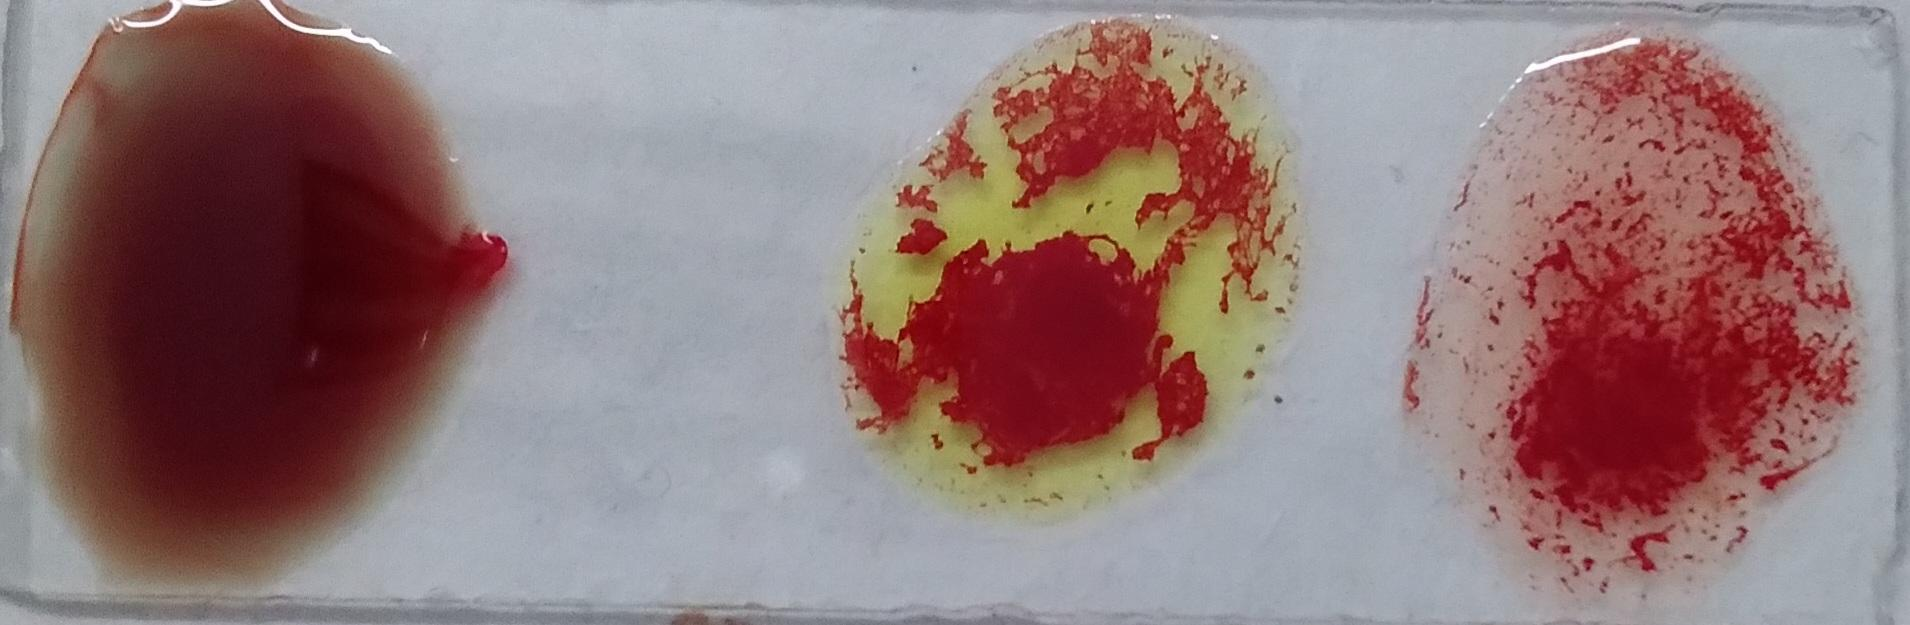B: (608, 104, 1073, 612)
D: (46, 23, 515, 593)
